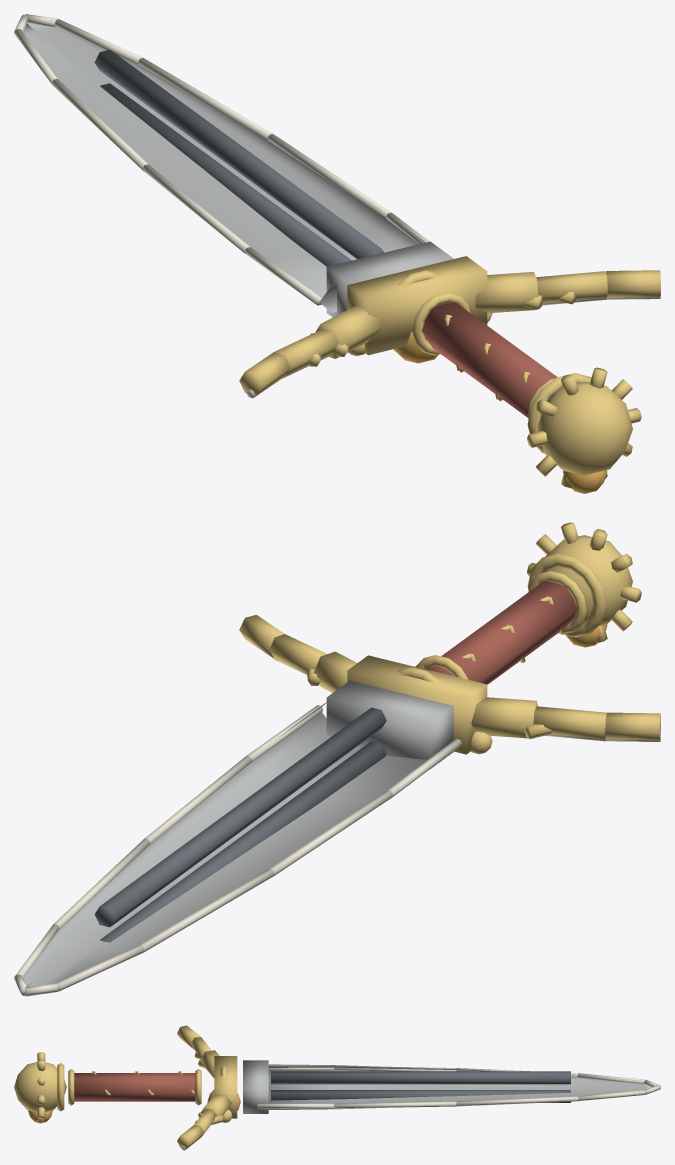
3 renders of one model, top to bottom at view 1: azimuth 30°, elevation 25°; view 2: azimuth 150°, elevation 25°; view 3: azimuth 270°, elevation 25°, orthographic. The views are drawn at different scales.
Visible parts, largest first — view 1: gold, steel, black, edge, wrap, gem; view 2: steel, gold, black, edge, wrap; view 3: steel, black, gold, edge, wrap, gem.
Part boxes in pixels (bbox=[...]): gold: bbox=[239, 256, 660, 488]; steel: bbox=[23, 14, 453, 317]; black: bbox=[94, 49, 552, 400]; edge: bbox=[14, 14, 660, 398]; wrap: bbox=[421, 302, 557, 417]; gem: bbox=[393, 331, 607, 493]; steel: bbox=[23, 680, 453, 987]; gold: bbox=[239, 522, 660, 754]; black: bbox=[94, 707, 386, 942]; edge: bbox=[14, 659, 660, 996]; wrap: bbox=[426, 581, 577, 684]; steel: bbox=[243, 1060, 658, 1113]; black: bbox=[271, 1071, 570, 1102]; gold: bbox=[14, 1025, 237, 1148]; edge: bbox=[181, 1066, 660, 1150]; wrap: bbox=[74, 1073, 195, 1101]; gem: bbox=[28, 1089, 240, 1123].
Bounding box in the file's own units: 3.04 × 0.8227 × 7.33.
